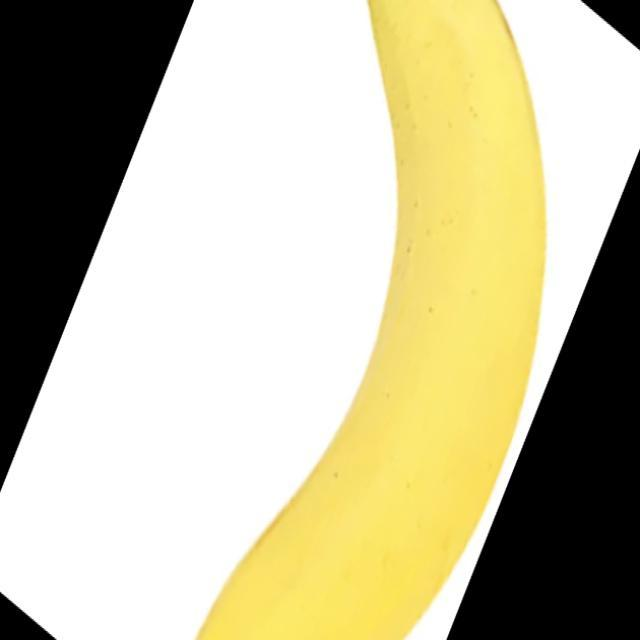Banana: (183, 0, 547, 639)
